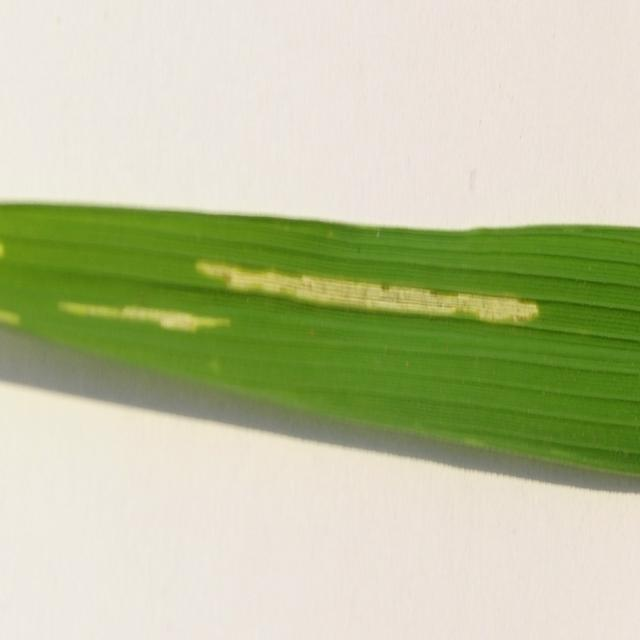Unhealthy: (195, 263, 538, 322), (59, 301, 232, 333)
